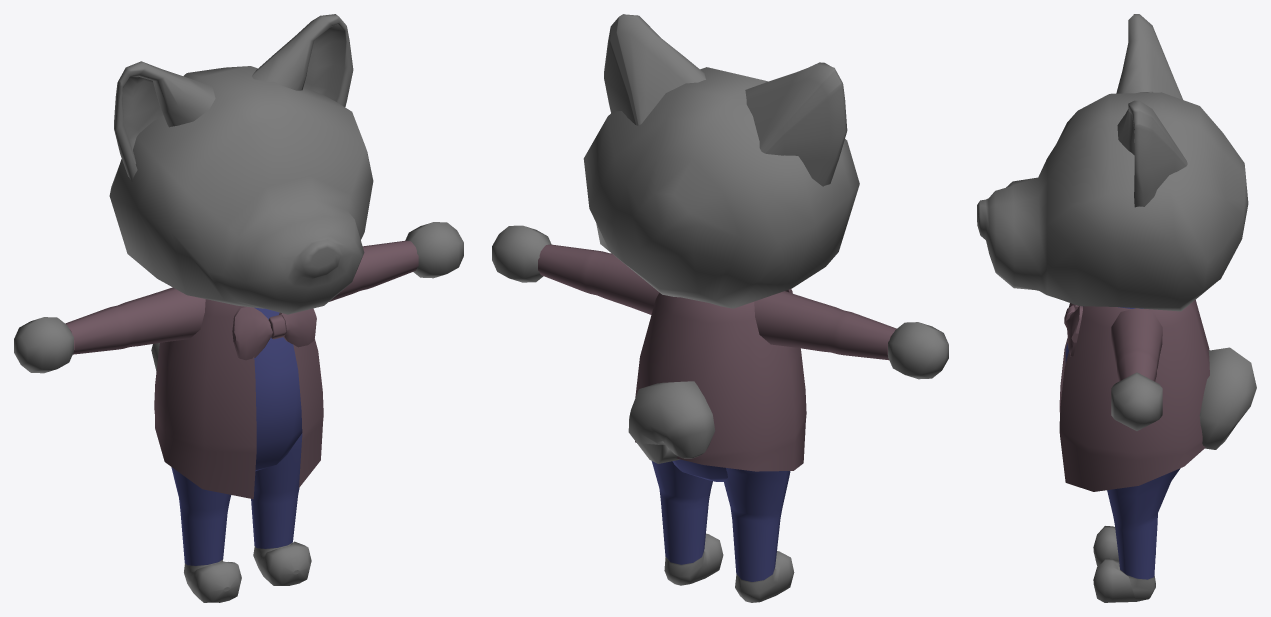
File: MayorMerry.fbx
The picture shows the model from 3 angles, left to right: view 1: azimuth 30°, elevation 25°; view 2: azimuth 150°, elevation 25°; view 3: azimuth 270°, elevation 25°; orthographic projection. The views are drawn at different scales.
Visible parts, largest first — view 1: Head, body_geo1, r_arm_geo, l_leg_geo, L_Ear_geo4, r_leg_geo, L_Ear_geo2, body_geo, r_hand_geo, l_arm_geo, l_hand_geo, Bowtie (+1 smaller); view 2: Head, body_geo1, L_Ear_geo4, r_leg_geo, L_Ear_geo2, r_arm_geo, l_leg_geo, pCylinder1, l_arm_geo, r_hand_geo, l_hand_geo, body_geo; view 3: Head, body_geo1, l_leg_geo, pCylinder1, L_Ear_geo2, L_Ear_geo4, l_arm_geo, l_hand_geo, r_leg_geo, Giraffe3:pCube70.
Part boxes in pixels (left/top/right/bottom): Head: left=109, top=66, right=373, bottom=314; body_geo1: left=154, top=299, right=323, bottom=499; r_arm_geo: left=65, top=287, right=205, bottom=354; l_leg_geo: left=251, top=433, right=311, bottom=585; L_Ear_geo4: left=114, top=61, right=215, bottom=181; r_leg_geo: left=171, top=467, right=241, bottom=602; L_Ear_geo2: left=252, top=14, right=353, bottom=106; body_geo: left=254, top=307, right=302, bottom=471; r_hand_geo: left=14, top=317, right=73, bottom=373; l_arm_geo: left=329, top=240, right=418, bottom=301; l_hand_geo: left=405, top=222, right=463, bottom=278; Bowtie: left=232, top=306, right=272, bottom=360; Head: left=583, top=67, right=859, bottom=308; body_geo1: left=635, top=293, right=806, bottom=471; L_Ear_geo4: left=745, top=62, right=847, bottom=186; r_leg_geo: left=723, top=468, right=794, bottom=602; L_Ear_geo2: left=604, top=14, right=705, bottom=125; r_arm_geo: left=754, top=291, right=896, bottom=360; l_leg_geo: left=651, top=461, right=723, bottom=585; pCylinder1: left=628, top=381, right=715, bottom=463; l_arm_geo: left=538, top=244, right=659, bottom=314; r_hand_geo: left=888, top=322, right=948, bottom=379; l_hand_geo: left=492, top=225, right=551, bottom=282; body_geo: left=672, top=459, right=727, bottom=481; Head: left=977, top=92, right=1248, bottom=311; body_geo1: left=1059, top=300, right=1209, bottom=491; l_leg_geo: left=1093, top=468, right=1180, bottom=602; pCylinder1: left=1199, top=347, right=1256, bottom=449; L_Ear_geo2: left=1117, top=100, right=1187, bottom=207; L_Ear_geo4: left=1116, top=14, right=1182, bottom=99; l_arm_geo: left=1111, top=308, right=1162, bottom=381; l_hand_geo: left=1111, top=372, right=1162, bottom=430; r_leg_geo: left=1093, top=526, right=1155, bottom=566; Giraffe3:pCube70: left=1065, top=306, right=1082, bottom=356.
Bounding box in the file's own units: 7.05 × 8.25 × 4.04.
